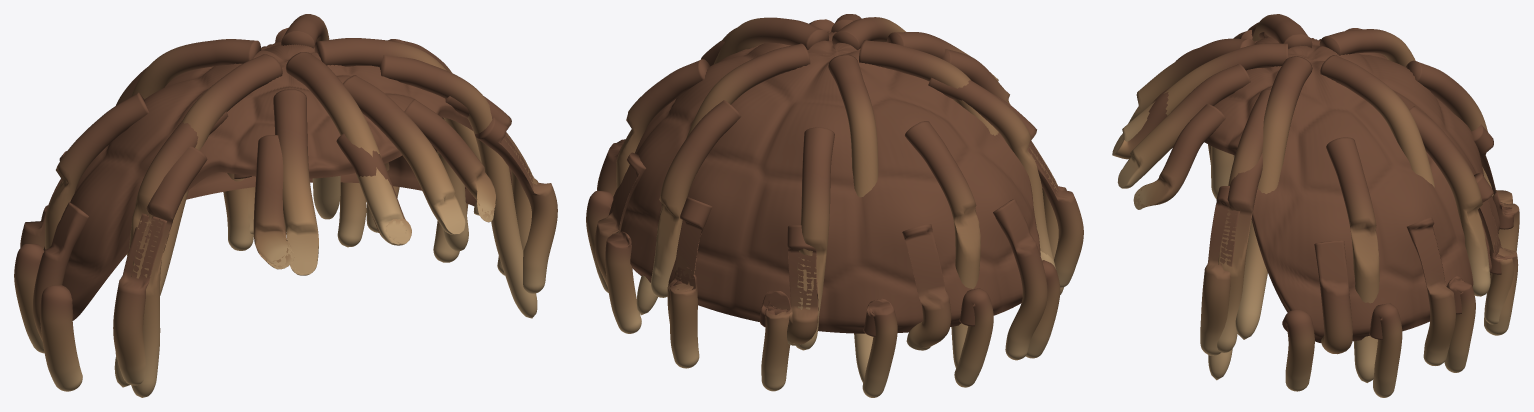
Rendered from Ombre-25ce2f064639253-hair.glb.
3 views of the same model, side by side, from view 1: azimuth 30°, elevation 25°; view 2: azimuth 150°, elevation 25°; view 3: azimuth 270°, elevation 25° (orthographic). The views are drawn at different scales.
Parts seen in each view (by area): view 1: 226 hair / Hair252 / sectioned locs.001; view 2: 226 hair / Hair252 / sectioned locs.001; view 3: 226 hair / Hair252 / sectioned locs.001.
Boxes of the visible parts, box(x1,y1,x2,y2) form: 226 hair / Hair252 / sectioned locs.001: box(14, 14, 557, 397); 226 hair / Hair252 / sectioned locs.001: box(586, 14, 1083, 397); 226 hair / Hair252 / sectioned locs.001: box(1112, 14, 1519, 397).
Bounding box in the file's own units: 1.1 × 0.6395 × 0.8891.
Materials: 1 (1 with a texture image).
